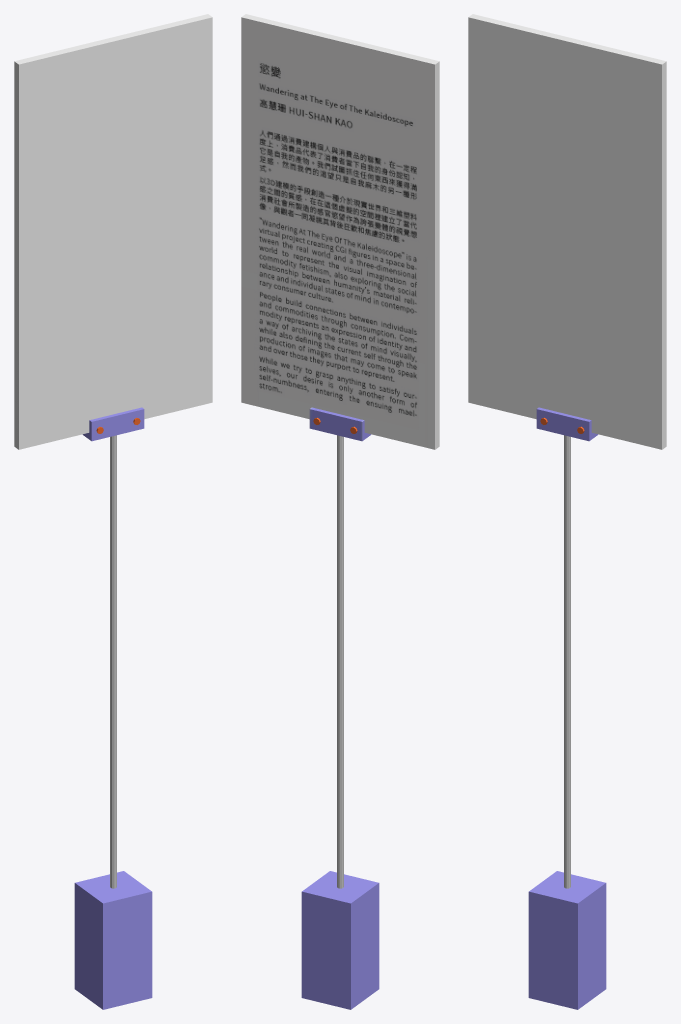
The model's file is work_sign02_long.fbx.
3 views of the same model, side by side, from view 1: azimuth 30°, elevation 25°; view 2: azimuth 150°, elevation 25°; view 3: azimuth 330°, elevation 25° (orthographic).
Parts seen in each view (by area): view 1: work_detail_02, work_sign; view 2: work_detail_02, work_sign; view 3: work_detail_02, work_sign.
Boxes of the visible parts, <box> form: work_detail_02: <box>14,14,212,449</box>; work_sign: <box>74,407,152,1009</box>; work_detail_02: <box>241,14,439,449</box>; work_sign: <box>301,407,379,1009</box>; work_detail_02: <box>468,14,666,449</box>; work_sign: <box>528,407,606,1009</box>.
Size of the model in its own units: 42.19 by 198 by 10.67.
1 material, 1 textured.
